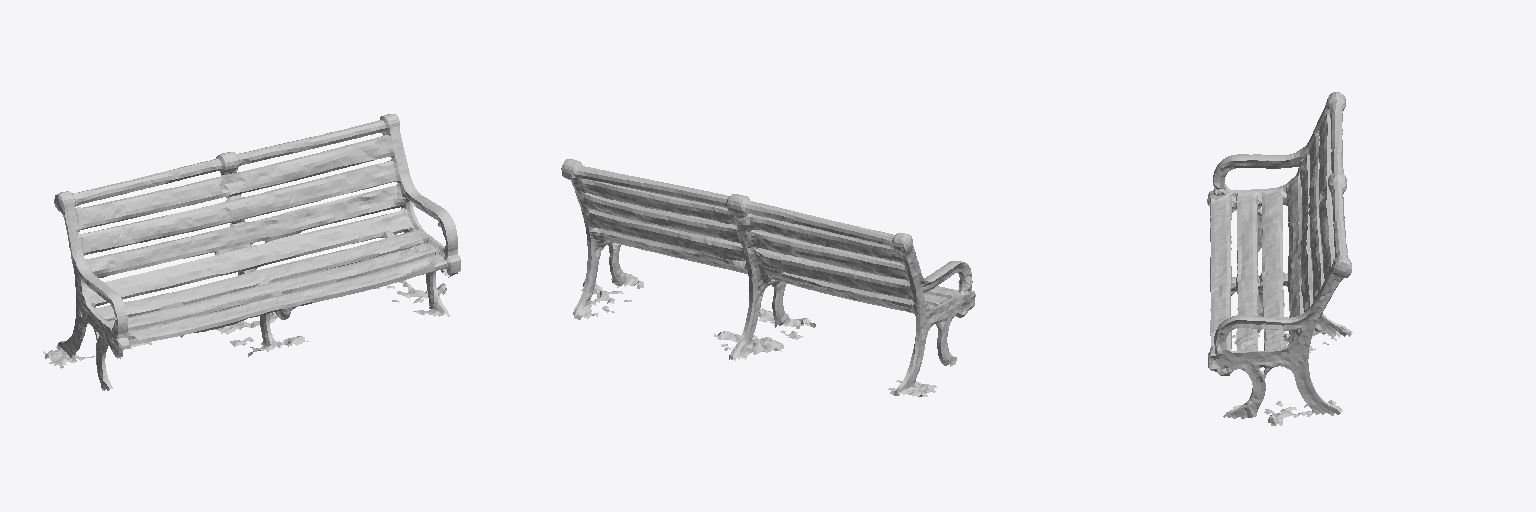
File: bench-midpoly-remesh.obj
3 renders of one model, left to right at view 1: azimuth 30°, elevation 25°; view 2: azimuth 150°, elevation 25°; view 3: azimuth 270°, elevation 25°, orthographic.
Size of the model in its own units: 3.23 by 1.36 by 1.09.